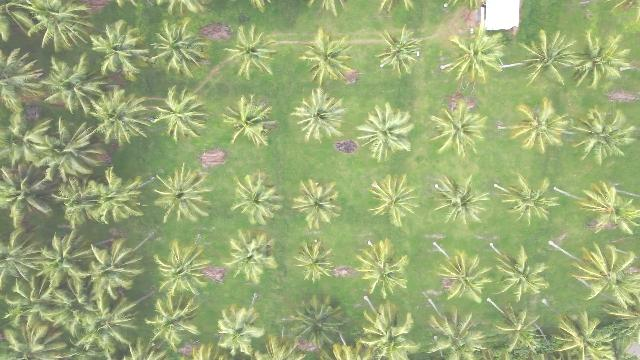trees: (14, 118, 109, 180), (59, 168, 147, 226), (72, 285, 145, 351), (76, 233, 146, 299), (570, 244, 640, 309), (85, 85, 157, 145), (41, 57, 113, 117), (570, 106, 640, 166), (11, 3, 98, 51), (442, 21, 508, 84), (28, 228, 93, 291), (515, 29, 584, 87), (146, 85, 215, 143), (567, 31, 634, 90), (147, 20, 215, 78), (152, 164, 217, 224), (427, 98, 489, 159), (353, 103, 416, 163), (90, 19, 155, 77), (357, 300, 419, 360), (506, 99, 572, 155), (145, 290, 206, 350), (1, 164, 61, 224), (432, 248, 496, 304), (491, 245, 551, 304), (575, 181, 640, 235), (496, 174, 562, 227), (300, 27, 359, 86), (153, 239, 214, 296), (286, 294, 348, 350), (353, 239, 410, 299), (428, 304, 489, 360), (220, 23, 279, 80), (214, 292, 266, 356), (222, 94, 280, 150), (429, 175, 491, 227), (291, 88, 348, 144), (554, 310, 617, 360), (225, 229, 280, 285), (364, 176, 422, 229), (373, 25, 426, 79), (232, 172, 285, 226), (493, 303, 547, 355), (5, 320, 72, 360), (293, 180, 344, 231), (293, 239, 338, 286), (260, 328, 306, 360)
